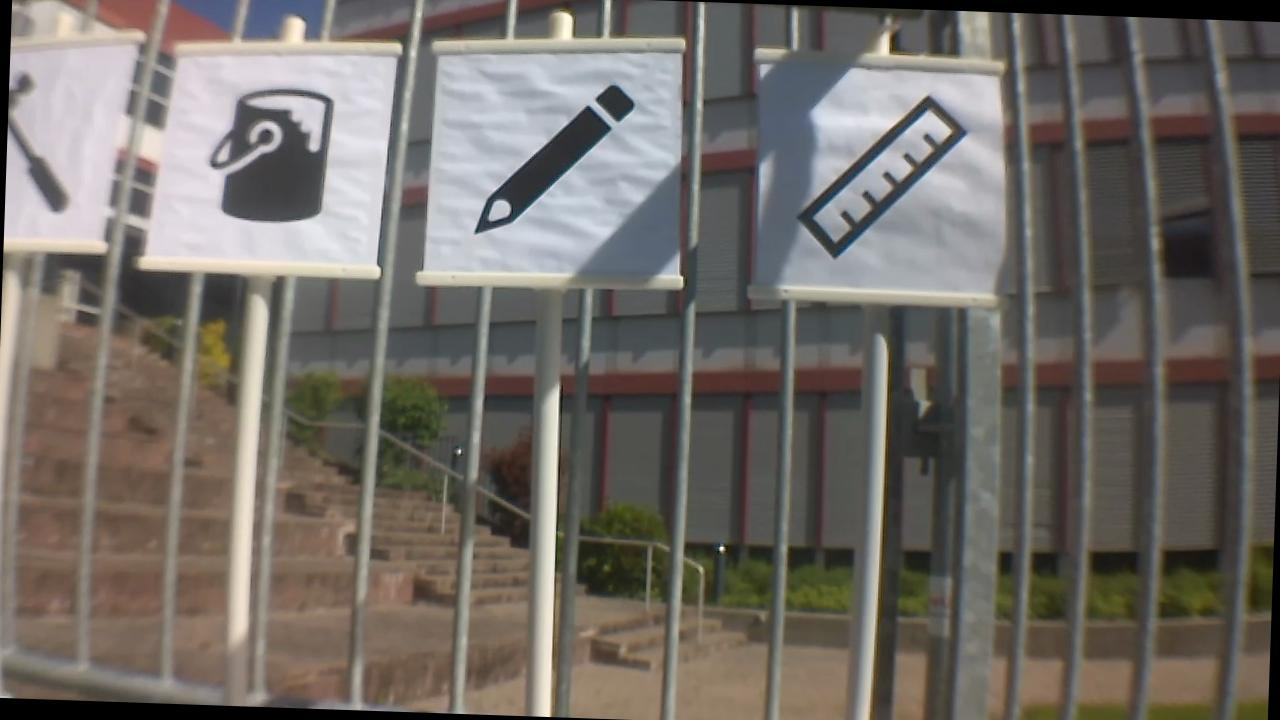bucket: (202, 74, 358, 230)
pencil: (454, 67, 644, 246)
ruler: (776, 78, 966, 272)
